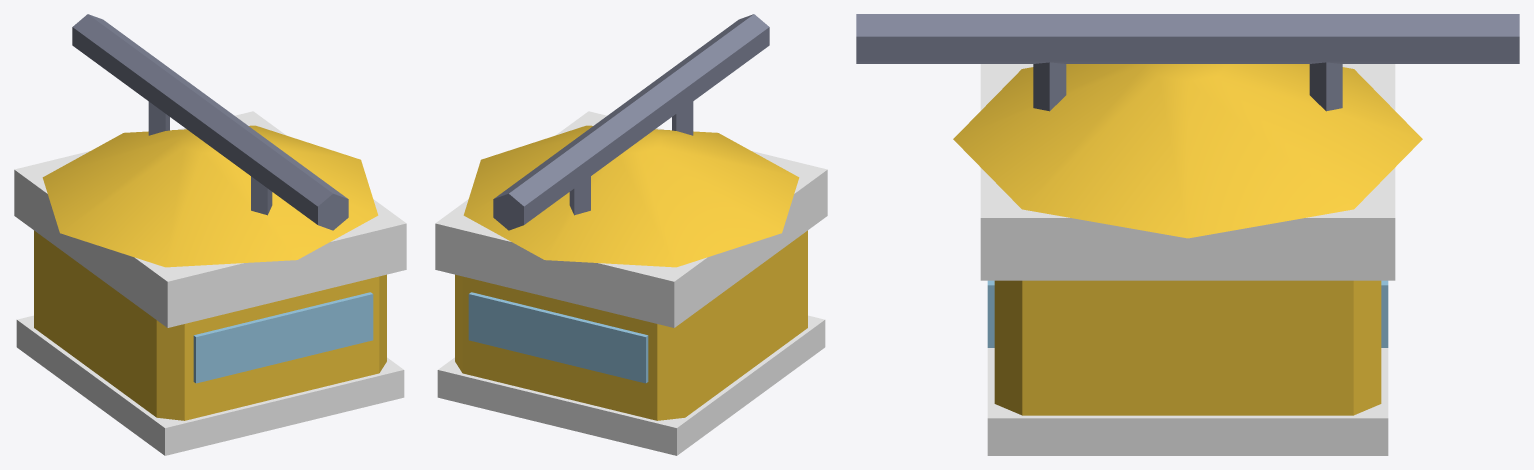
The model's file is ferris-wheel.gondola-2.glb.
The picture shows the model from 3 angles, left to right: view 1: azimuth 30°, elevation 25°; view 2: azimuth 150°, elevation 25°; view 3: azimuth 270°, elevation 25°; orthographic projection. The views are drawn at different scales.
Visible parts, largest first — view 1: model; view 2: model; view 3: model.
Part boxes in pixels (x1,y1,x2,y2): model: (14, 14, 406, 455); model: (435, 14, 827, 455); model: (856, 14, 1519, 455).
Size of the model in its own units: 0.34 by 0.29 by 0.48.
Materials: 1 (1 with a texture image).
